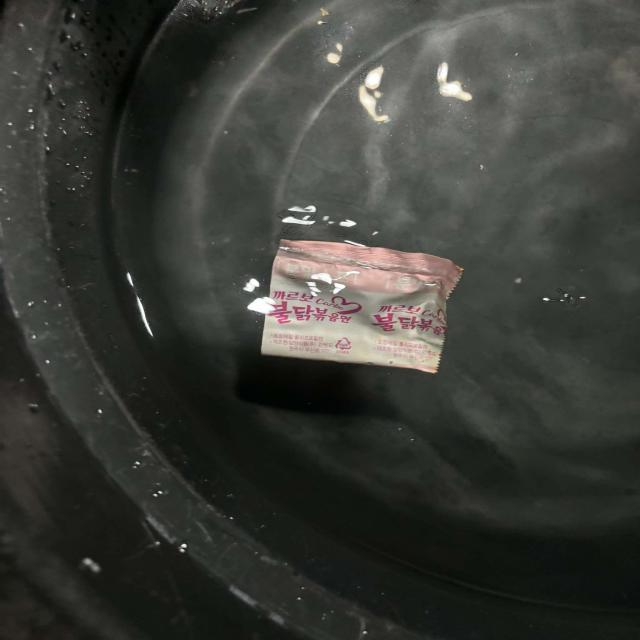Plastic Wrapper: (240, 210, 470, 389)
